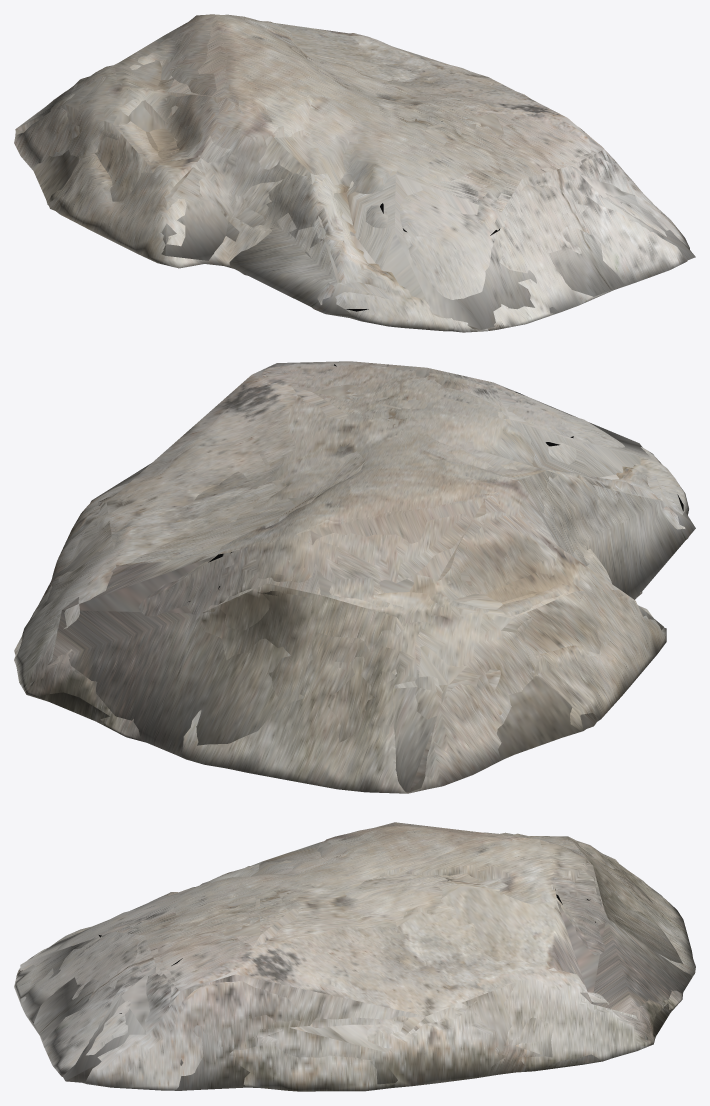
The model's file is stone_04.glb.
The picture shows the model from 3 angles, top to bottom: view 1: azimuth 30°, elevation 25°; view 2: azimuth 150°, elevation 25°; view 3: azimuth 270°, elevation 25°; orthographic projection. The views are drawn at different scales.
Visible parts, largest first — view 1: Rock.003, Pebble.003; view 2: Rock.003, Pebble.003; view 3: Rock.003, Pebble.003.
Boxes of the visible parts, x1,y1,x2,y2 form: Rock.003: [14, 14, 689, 332]; Pebble.003: [15, 15, 695, 329]; Rock.003: [14, 363, 688, 793]; Pebble.003: [14, 361, 695, 792]; Rock.003: [14, 825, 695, 1091]; Pebble.003: [20, 822, 692, 1090].
Size of the model in its own units: 1.53 by 0.4061 by 2.
1 material, 1 textured.
